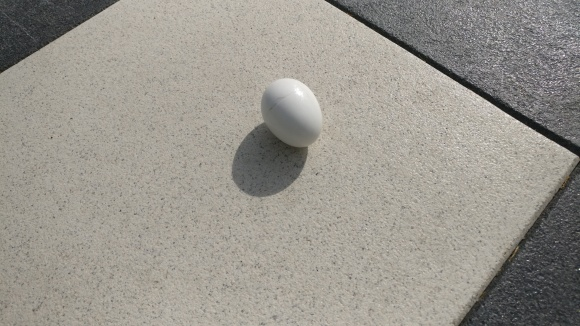egg: (260, 77, 324, 149)
